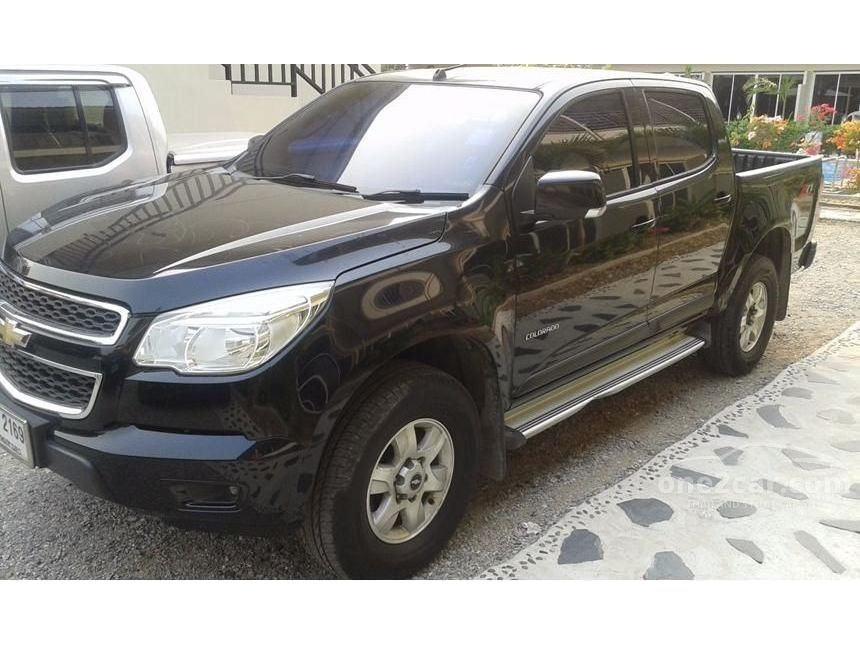pickup: (10, 67, 826, 572)
